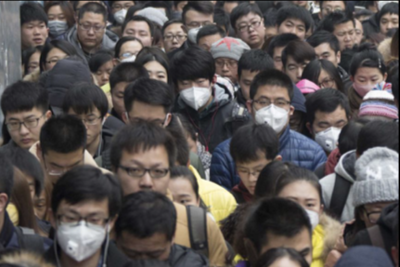with_mask: (57, 205, 109, 264), (251, 94, 291, 135), (280, 194, 320, 232), (312, 115, 348, 152), (176, 77, 212, 111), (184, 18, 213, 44), (354, 72, 383, 98), (46, 12, 68, 37), (111, 1, 134, 24)
without_mask: (114, 155, 170, 198), (4, 111, 41, 148), (234, 161, 271, 195), (40, 157, 83, 186), (110, 85, 147, 118), (68, 111, 102, 145), (235, 15, 266, 46), (76, 17, 104, 46), (20, 20, 47, 46), (214, 57, 239, 84), (161, 29, 187, 53), (284, 60, 309, 84), (333, 27, 357, 52), (122, 27, 151, 47), (279, 19, 306, 40), (379, 14, 399, 34), (95, 66, 113, 86)
